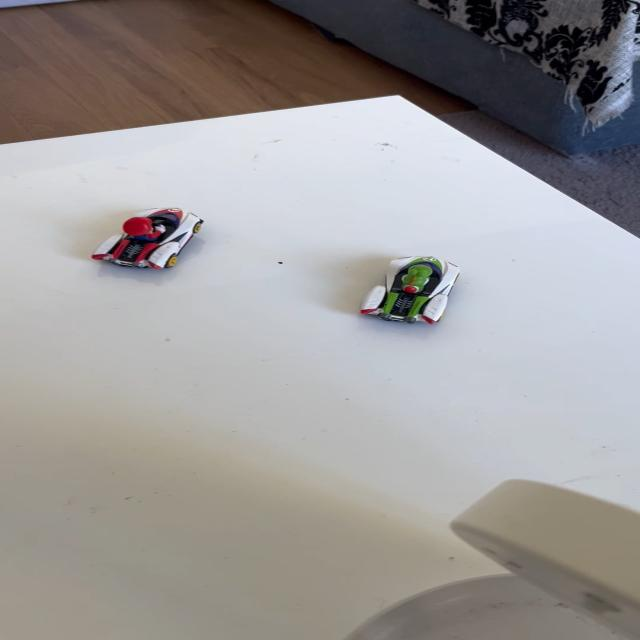mario: (79, 201, 214, 275)
yoshi: (346, 251, 475, 334)
